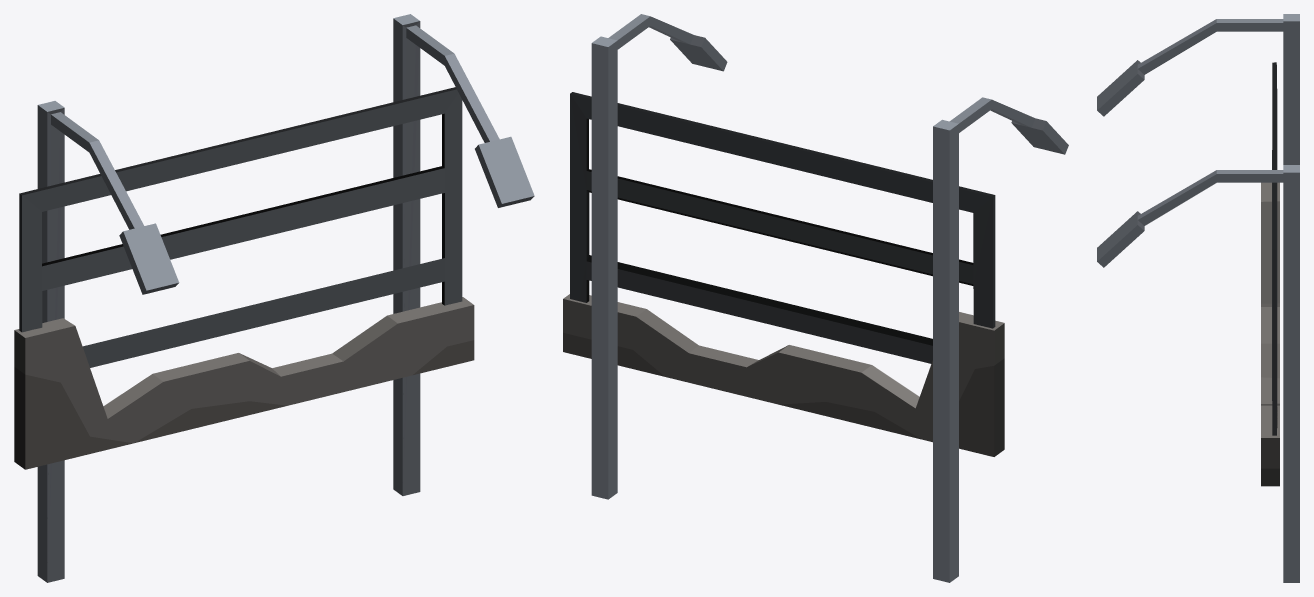
Rendered from SA_Bld_StoreSmall_Extras_01.gltf.
3 views of the same model, side by side, from view 1: azimuth 30°, elevation 25°; view 2: azimuth 150°, elevation 25°; view 3: azimuth 270°, elevation 25° (orthographic). The views are drawn at different scales.
Visible parts, largest first — view 1: SA_Bld_StoreSmall_Extras_01; view 2: SA_Bld_StoreSmall_Extras_01; view 3: SA_Bld_StoreSmall_Extras_01.
Boxes of the visible parts, bbox=[...] form: SA_Bld_StoreSmall_Extras_01: bbox=[14, 14, 534, 582]; SA_Bld_StoreSmall_Extras_01: bbox=[563, 14, 1068, 582]; SA_Bld_StoreSmall_Extras_01: bbox=[1097, 14, 1299, 582].
Bounding box in the file's own units: 5.05 × 5.06 × 2.27.
Materials: 1 (1 with a texture image).
